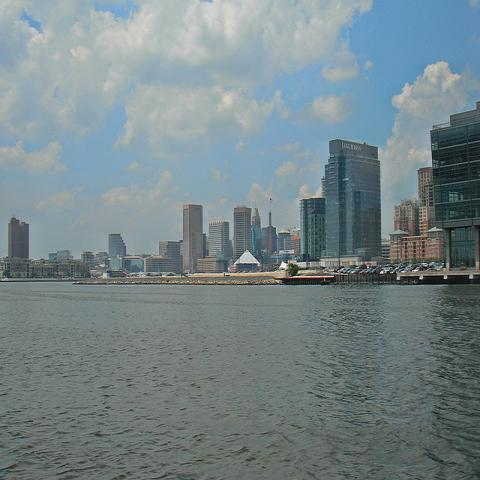car: (365, 260, 447, 276), (400, 267, 416, 274), (380, 269, 394, 275), (412, 267, 426, 272), (364, 268, 373, 275), (350, 269, 362, 274), (359, 269, 367, 275), (460, 262, 466, 270), (337, 268, 346, 273), (427, 268, 437, 272), (356, 265, 366, 269), (343, 268, 350, 273), (347, 269, 353, 274), (392, 268, 398, 273)
